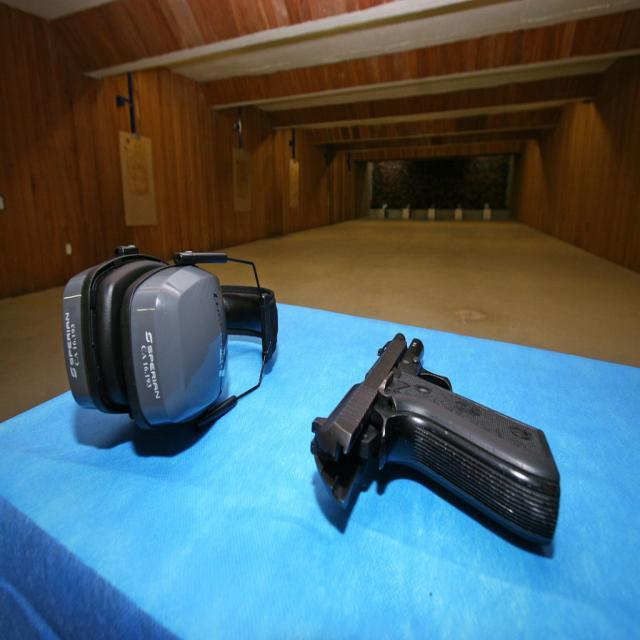Gun: (311, 334, 560, 544)
